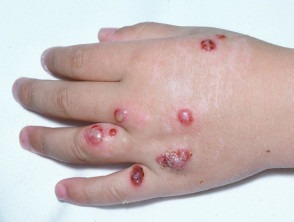Warts: (155, 143, 195, 172), (81, 122, 108, 146), (126, 162, 147, 188), (175, 105, 196, 130), (110, 104, 132, 123), (196, 36, 222, 52)
